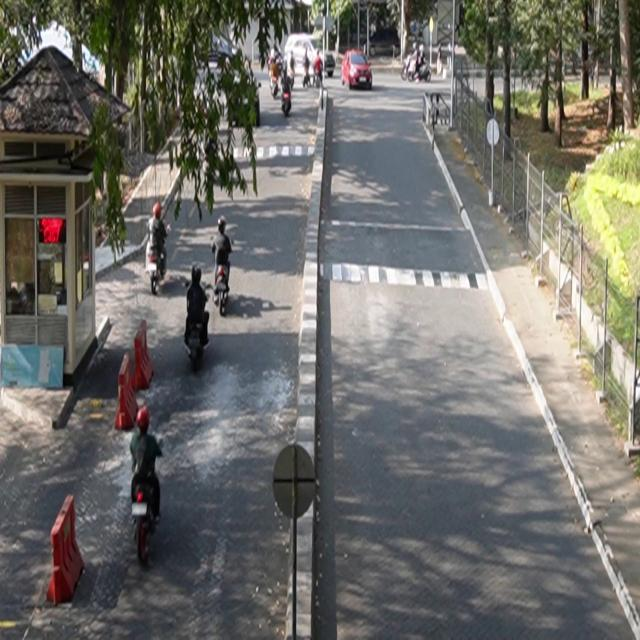car: (342, 50, 373, 91)
